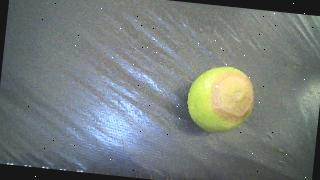DESECHO: (184, 64, 257, 136)
